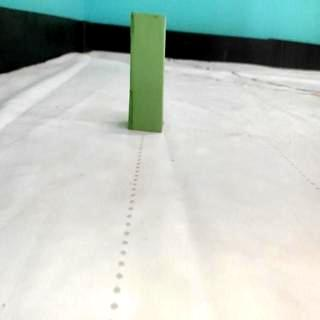greenbox: (128, 10, 166, 134)
